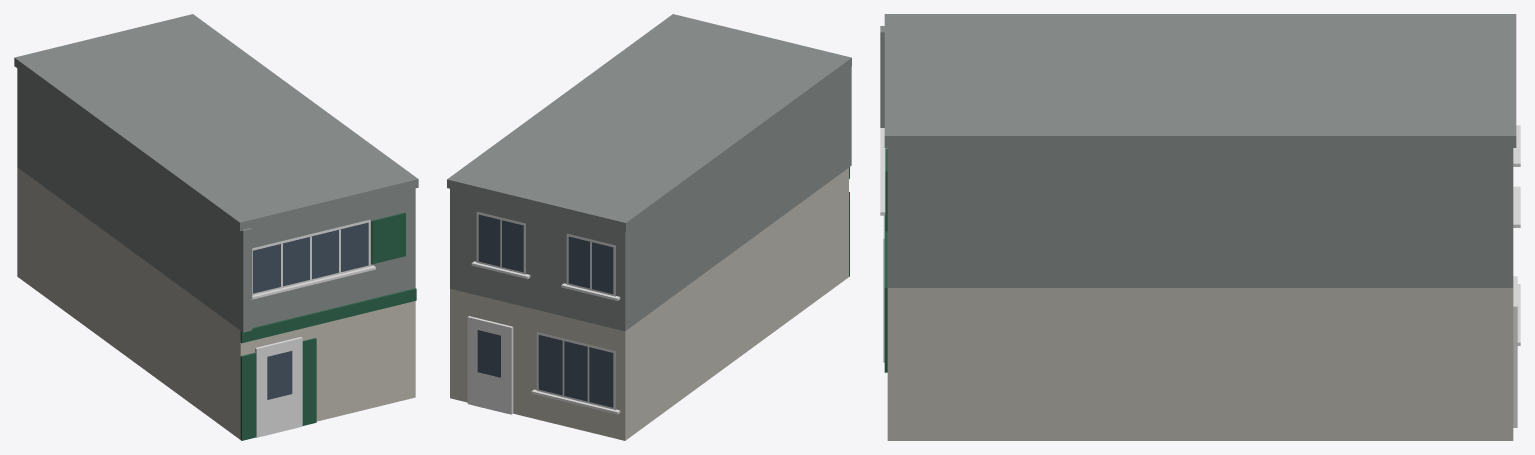
Rendered from zo-kb-patio-ribbon__green__2__flat__long__solid.glb.
3 renders of one model, left to right at view 1: azimuth 30°, elevation 25°; view 2: azimuth 150°, elevation 25°; view 3: azimuth 270°, elevation 25°, orthographic. The views are drawn at different scales.
Visible parts, largest first — view 1: zo-kb-patio-ribbon__green__2__flat__long__solid; view 2: zo-kb-patio-ribbon__green__2__flat__long__solid; view 3: zo-kb-patio-ribbon__green__2__flat__long__solid.
Part boxes in pixels (x1,y1,x2,y2): zo-kb-patio-ribbon__green__2__flat__long__solid: (14, 14, 418, 440); zo-kb-patio-ribbon__green__2__flat__long__solid: (447, 14, 851, 440); zo-kb-patio-ribbon__green__2__flat__long__solid: (880, 14, 1520, 440).
Size of the model in its own units: 4.78 by 5.6 by 10.6.
